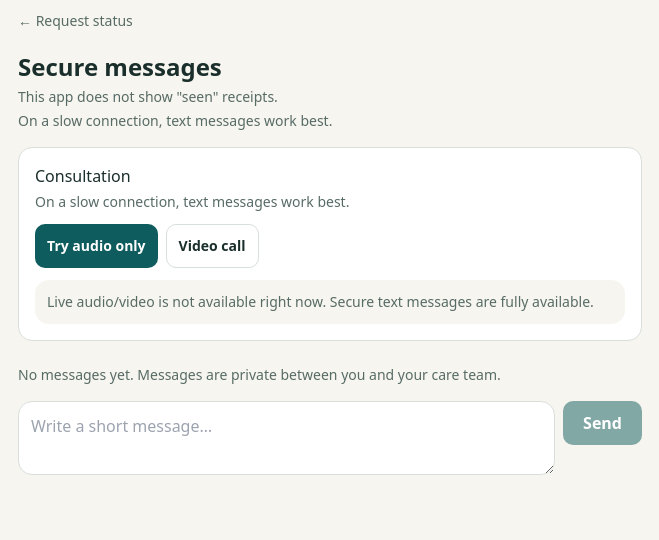
Scenario: secure text (store-and-forward) › message composed offline is saved to the queue as saved_locally — not delivered
In the text box labelled "Write a short message…": coordinates (287, 438) [18,401,555,475], type "Please check my report"
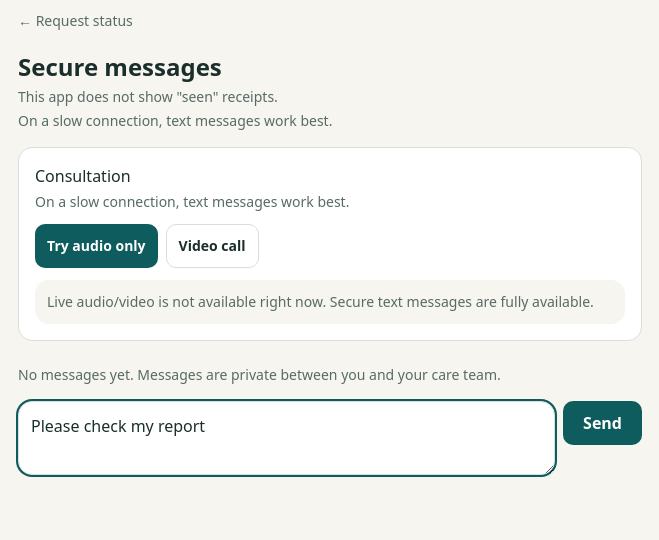
Click the button "Send": coordinates (603, 423) [563,401,642,445]
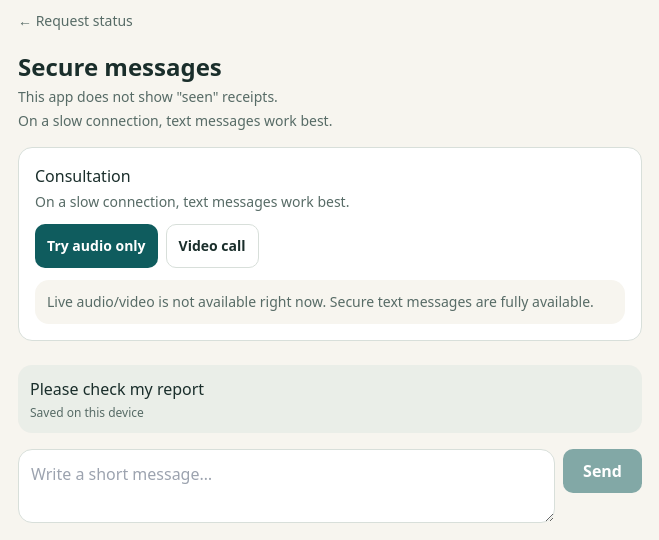
Check: the text "Saved on this device" is shown, box [30,404,144,421]
